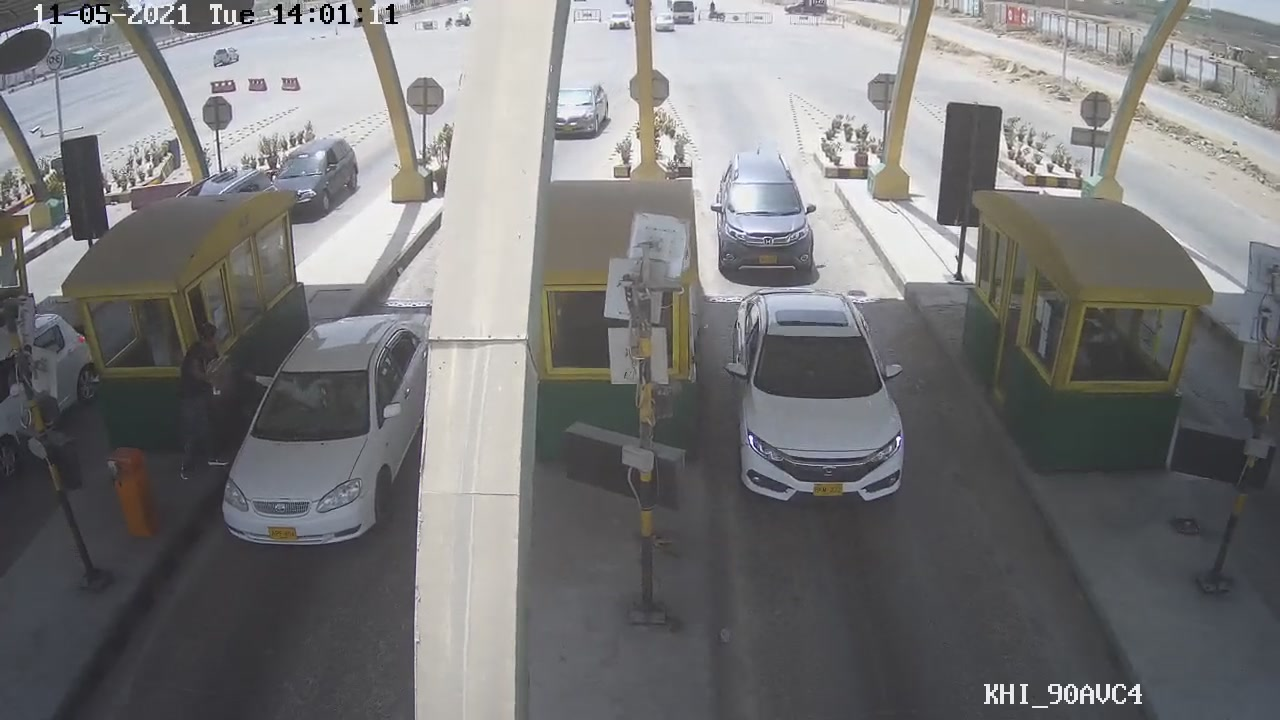F1: (721, 281, 909, 503), (707, 145, 831, 282)
